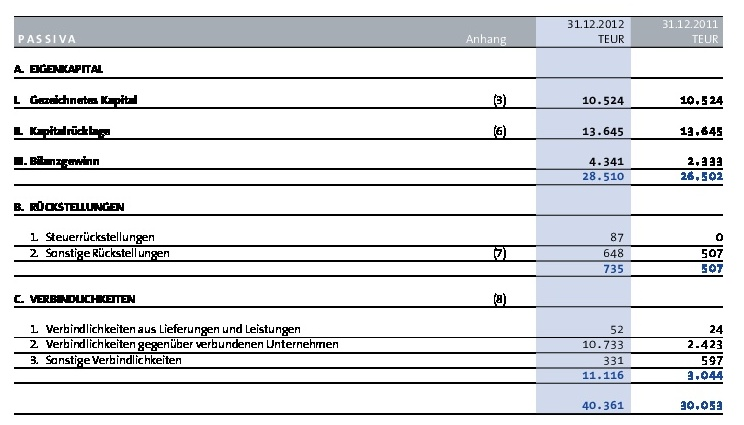table: (0, 0, 744, 425)
